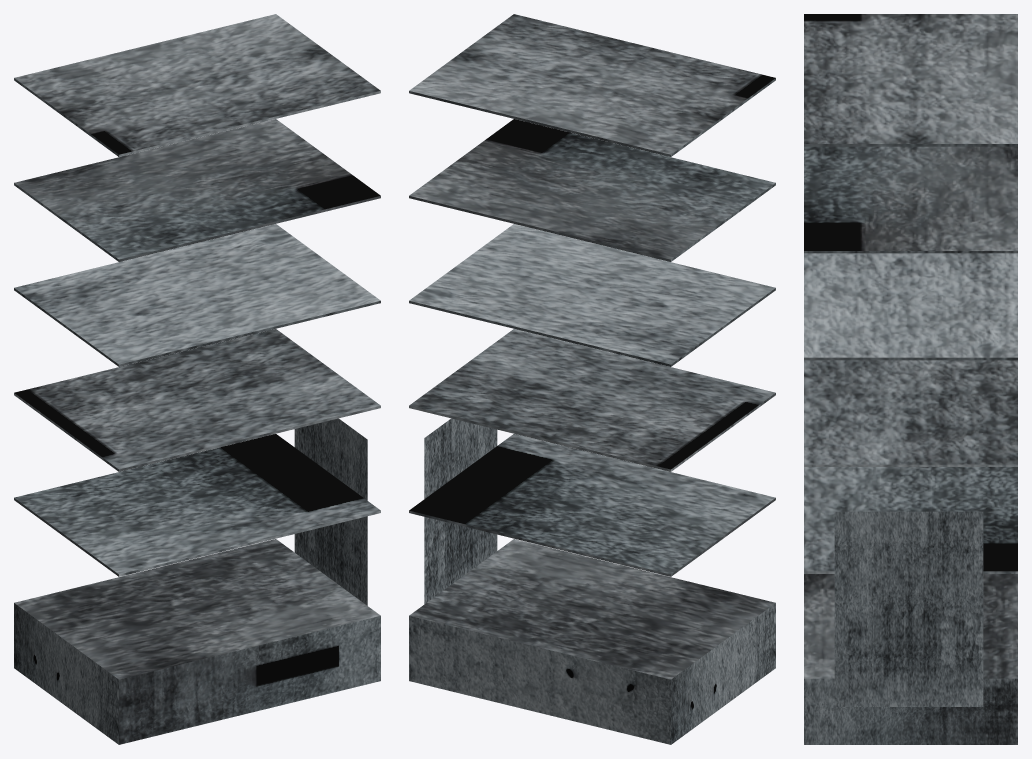
File: store_86.obj
The picture shows the model from 3 angles, left to right: view 1: azimuth 30°, elevation 25°; view 2: azimuth 150°, elevation 25°; view 3: azimuth 270°, elevation 25°; orthographic projection.
Size of the model in its own units: 28.07 by 60.02 by 19.35.
